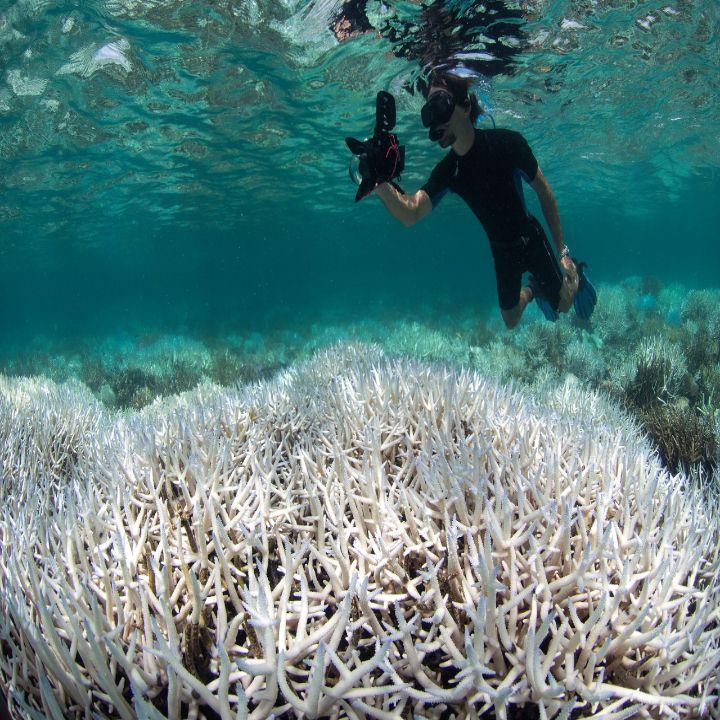Bleached disease: (52, 395, 674, 703)
